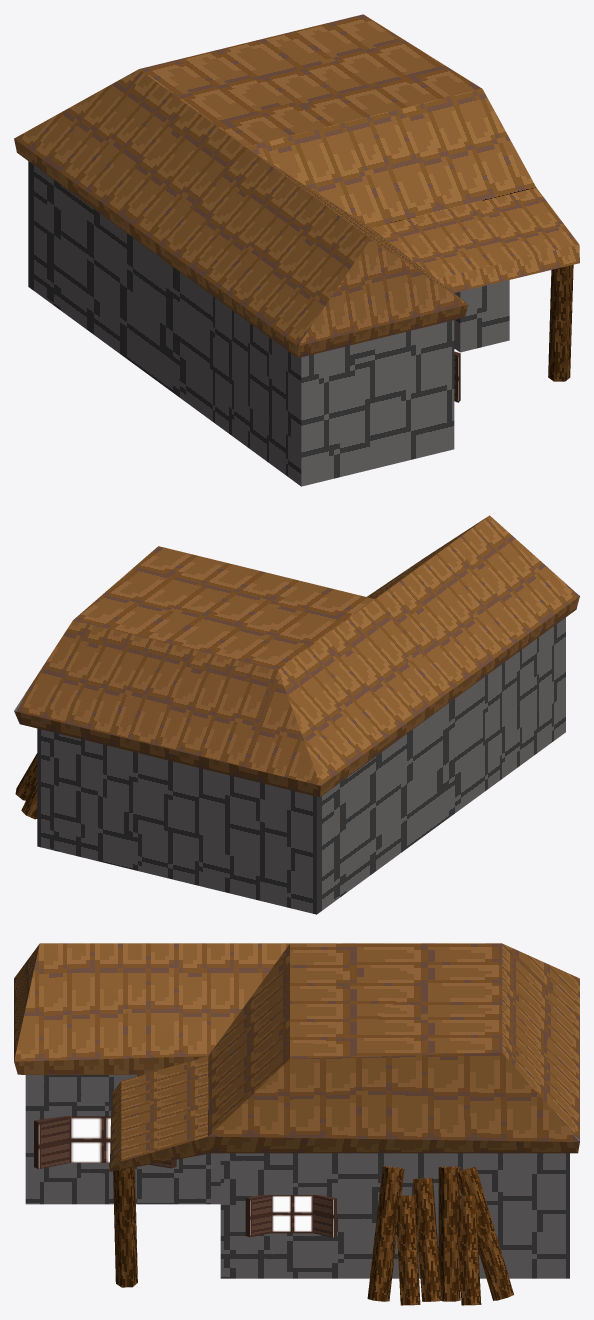
File: House.glb
3 renders of one model, top to bottom at view 1: azimuth 30°, elevation 25°; view 2: azimuth 150°, elevation 25°; view 3: azimuth 270°, elevation 25°, orthographic. The views are drawn at different scales.
Parts seen in each view (by area): view 1: Cube; view 2: Cube; view 3: Cube.
Boxes of the visible parts, bbox=[...] form: Cube: bbox=[14, 14, 579, 486]; Cube: bbox=[14, 515, 579, 914]; Cube: bbox=[14, 943, 579, 1305].
Size of the model in its own units: 13.65 by 7.7 by 17.28.
1 material, 1 textured.
